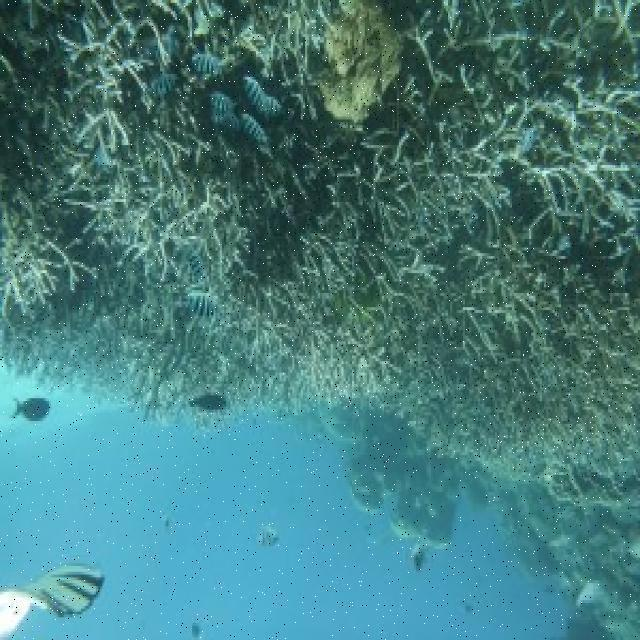Bleached: (1, 1, 640, 488)
Healthy: (326, 1, 404, 121)
